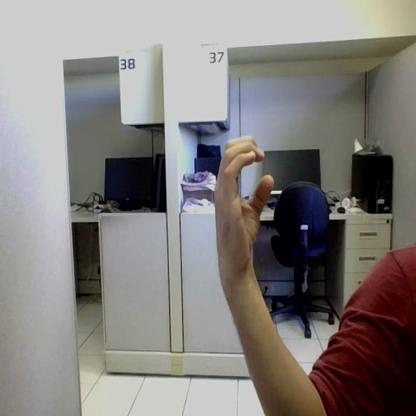C: (215, 136, 274, 273)
